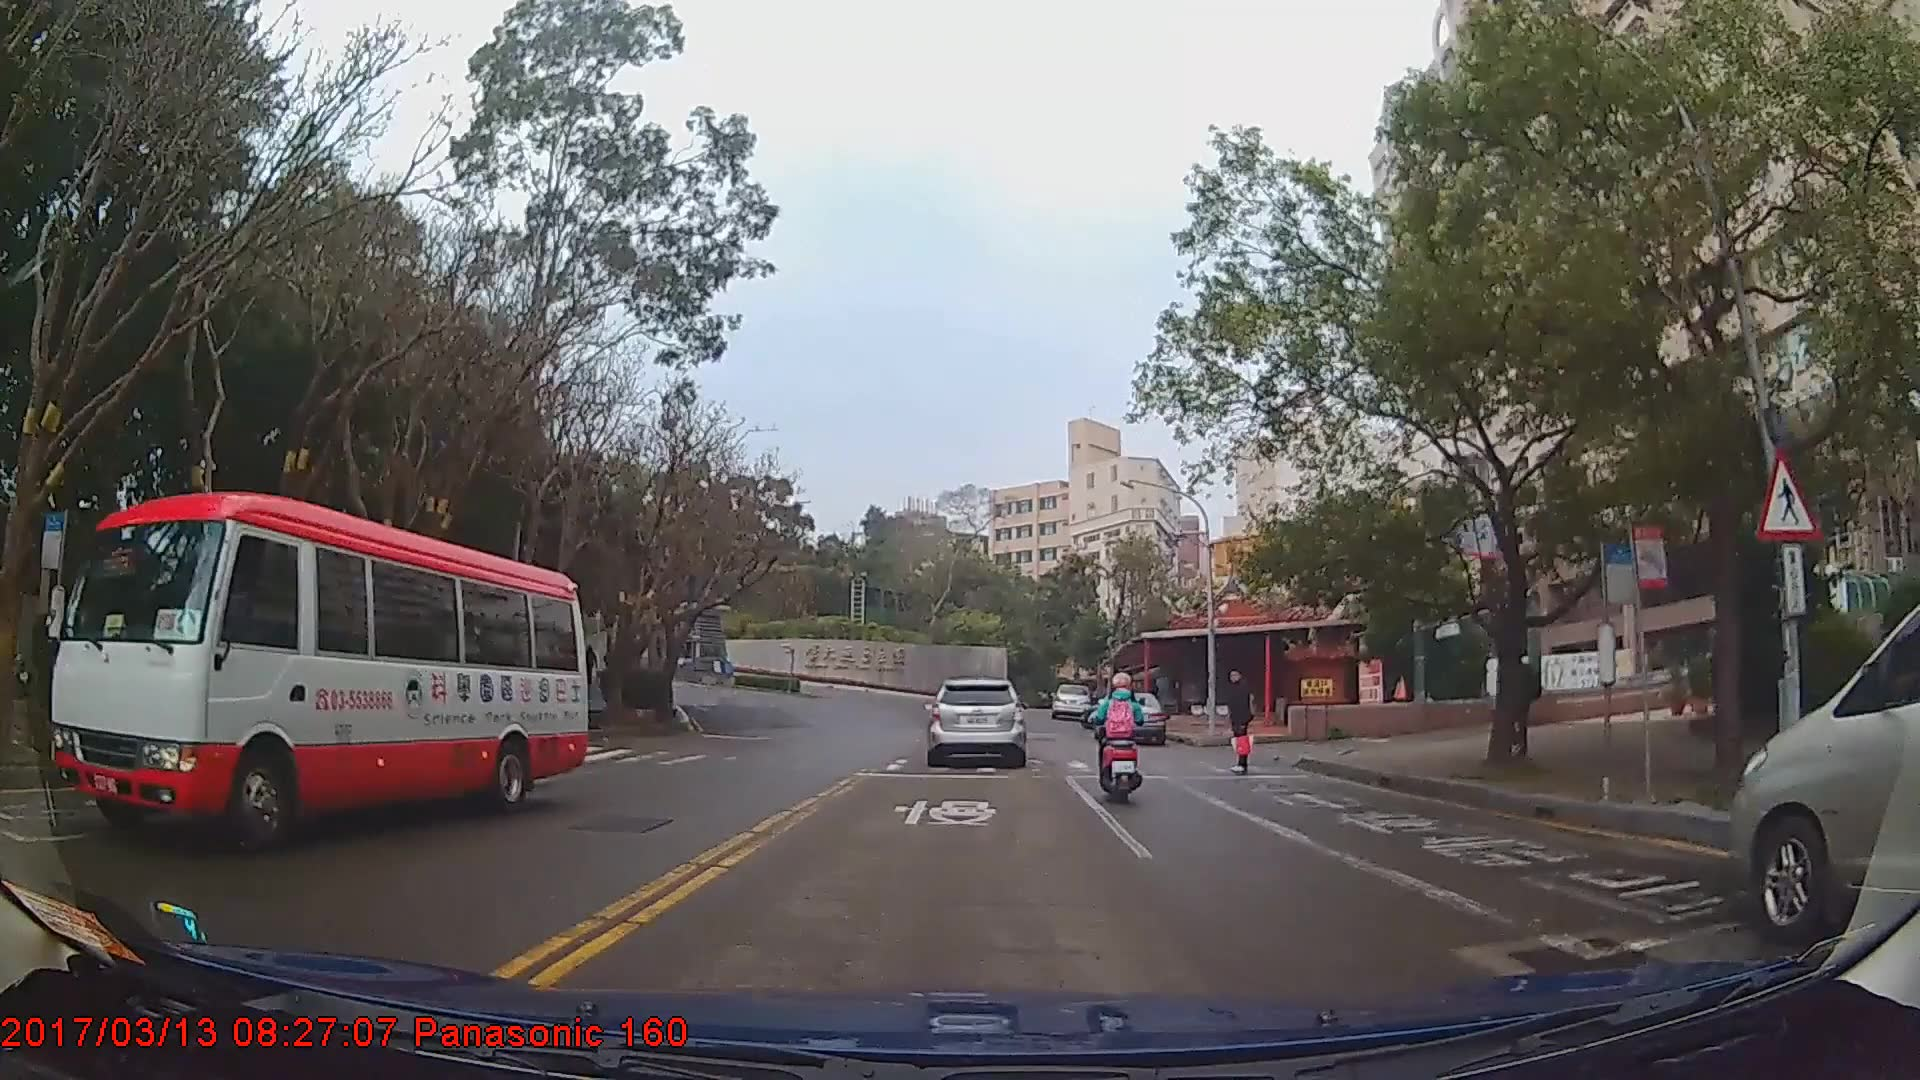pedestrian: (1226, 662, 1261, 774)
rider: (1088, 669, 1148, 800)
vehicle: (48, 488, 591, 855), (1734, 603, 1920, 937), (925, 673, 1028, 763), (1105, 688, 1167, 746), (1052, 681, 1090, 718)
